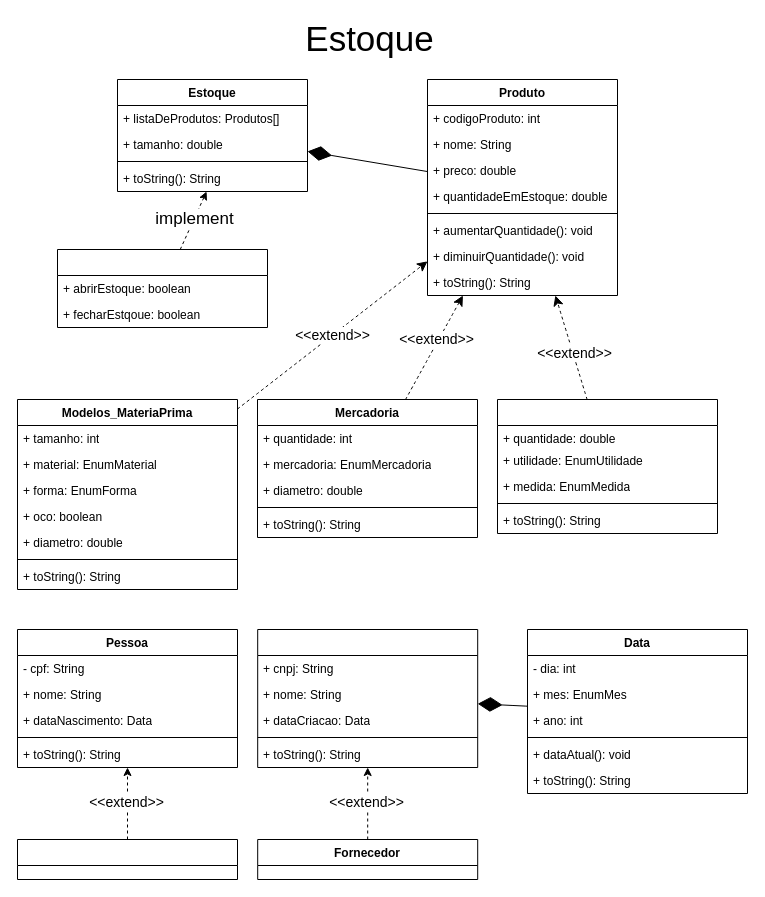
Some shapes in this 765 by 897 pixel diagram are drawn without their labels. The box of each missing label's shape, as (x1, y1, x2, y2) in pixels:
Cliente: (16, 838, 238, 880)
Consumiveis: (496, 398, 718, 534)
Empresa: (257, 628, 478, 768)
IEstadoDoEstoque: (56, 248, 268, 328)
